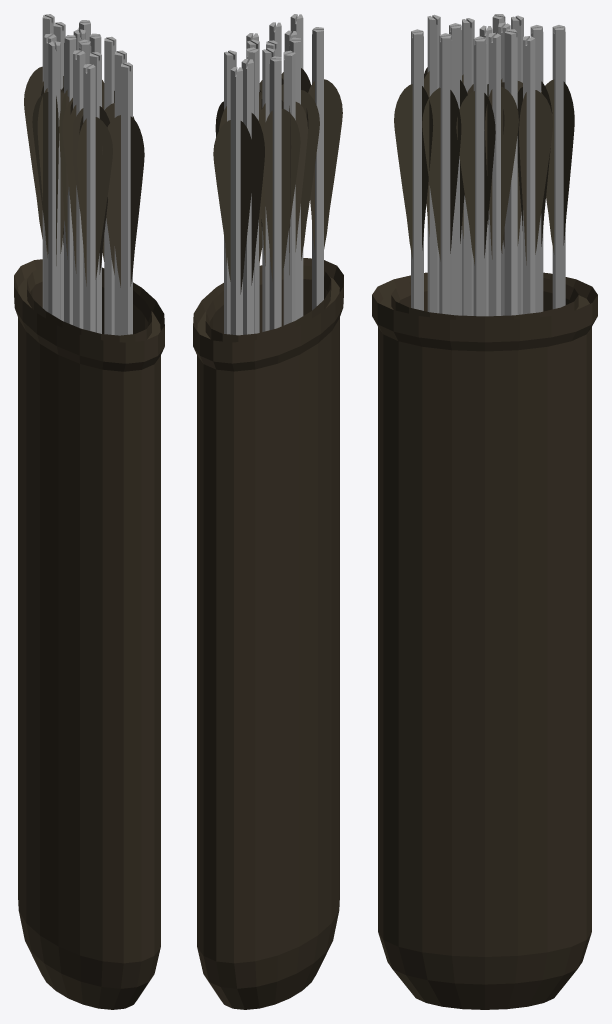
The model's file is Quiver.fbx.
3 views of the same model, side by side, from view 1: azimuth 30°, elevation 25°; view 2: azimuth 150°, elevation 25°; view 3: azimuth 270°, elevation 25° (orthographic). The views are drawn at different scales.
Visible parts, largest first — view 1: Quiver; view 2: Quiver; view 3: Quiver.
Part boxes in pixels (x1,y1,x2,y2): Quiver: (14,14,164,1009); Quiver: (193,14,343,1009); Quiver: (372,14,597,1009).
Size of the model in its own units: 0.1188 by 1.02 by 0.2167.
